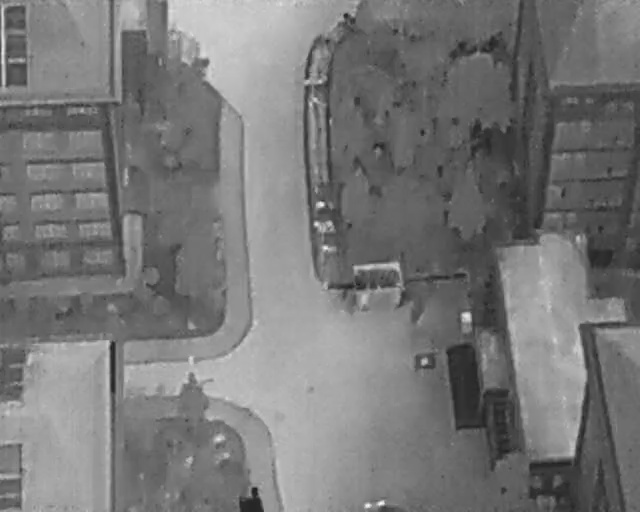Bicycle: (312, 218, 336, 233), (315, 200, 336, 211)
